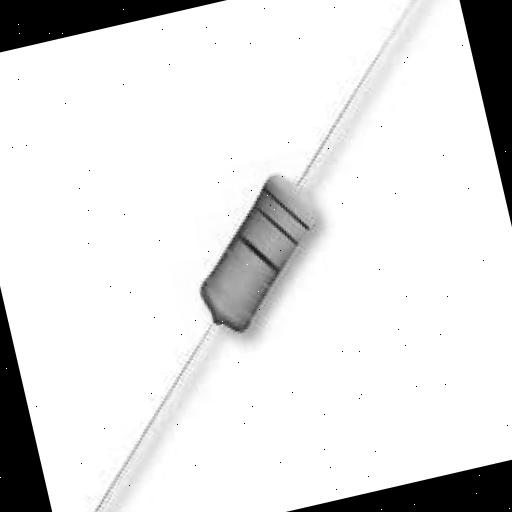RESISTOR: (126, 136, 384, 371)
